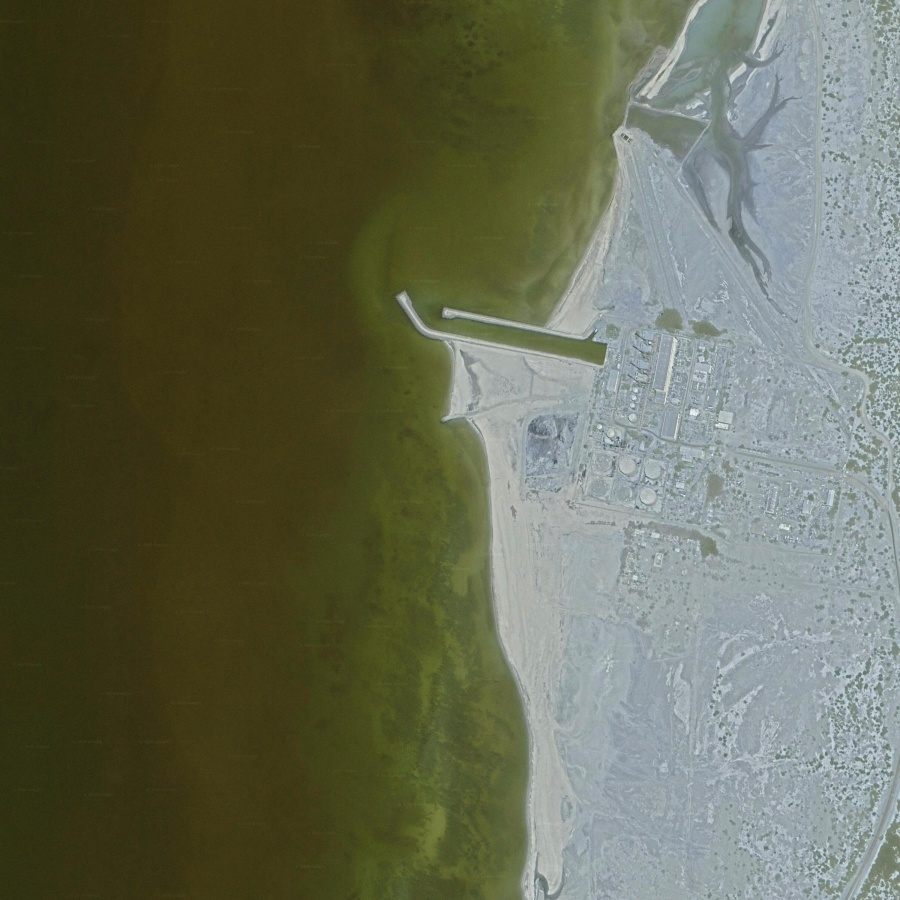PowerPlant: (514, 320, 742, 523)
